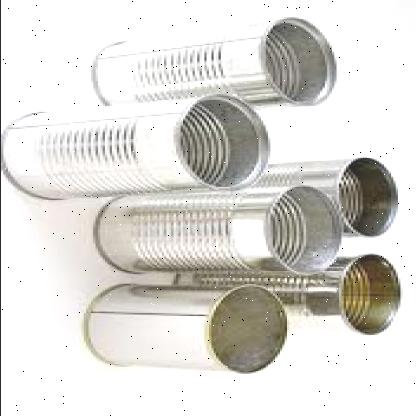Can: (0, 89, 272, 204), (89, 181, 344, 290), (88, 20, 334, 105), (331, 154, 402, 241)
